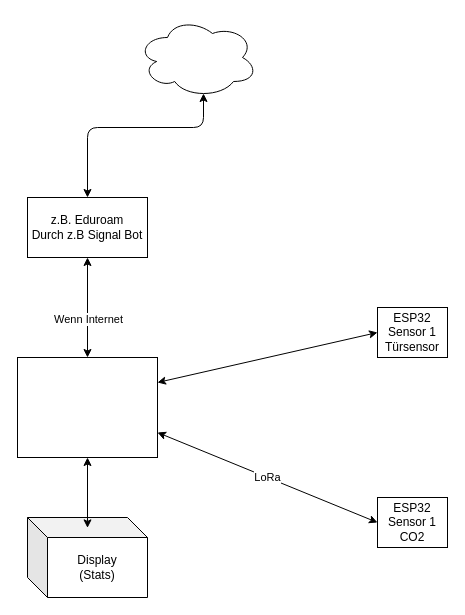
Some shapes in this 465 by 615 pixel diagram are drawn without their labels. The centre of each missing label's shape, as x and y in pixels:
"Internet" belongs at pixel 197 57.
"Raspberry Pi MQTT Broker" belongs at pixel 87 407.
